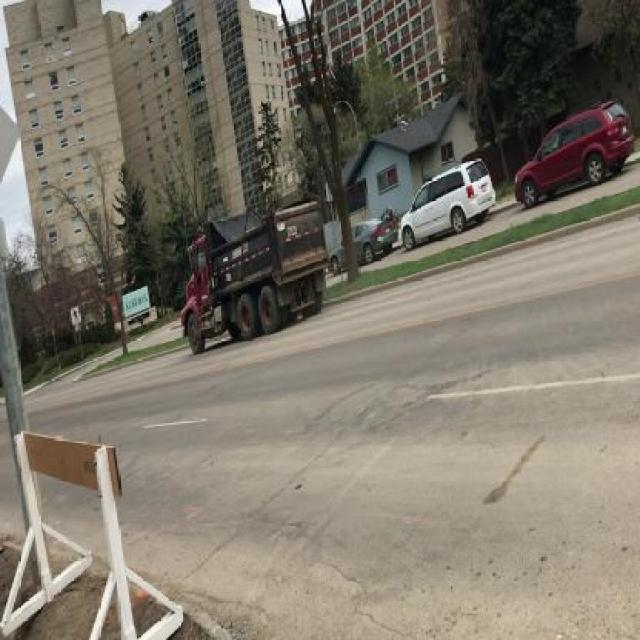Dump Truck: (177, 188, 329, 354)
